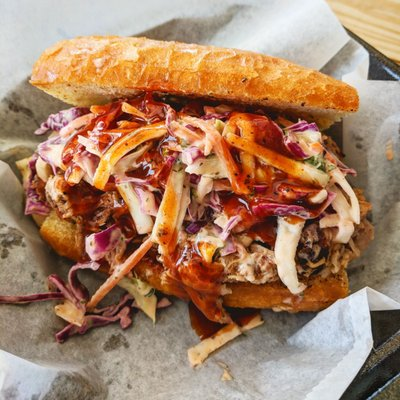soup: (8, 30, 365, 380)
